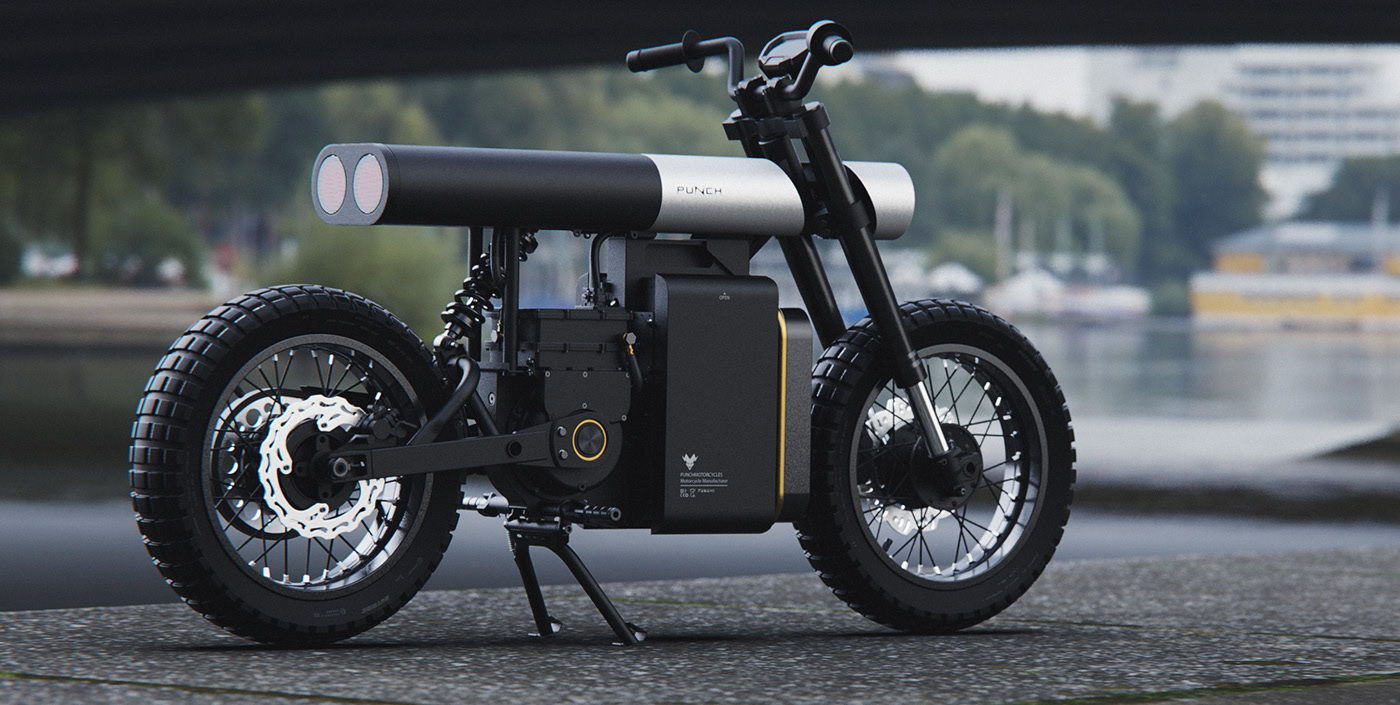MNV: (127, 23, 1074, 632)
